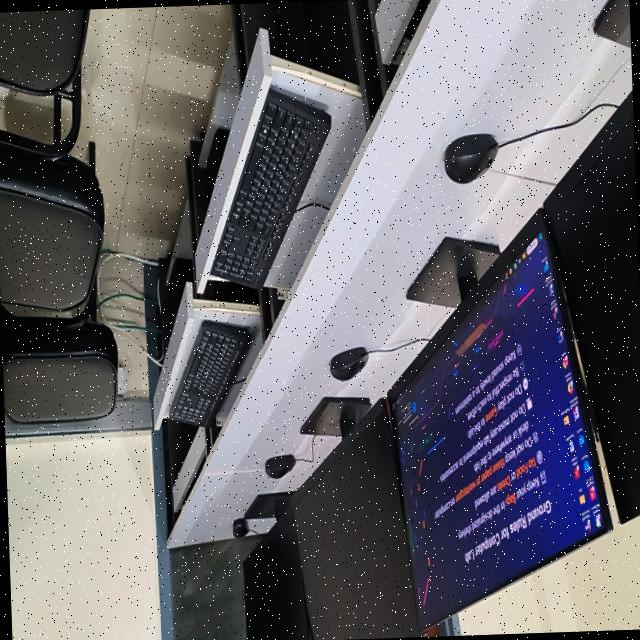Chair: (543, 89, 640, 520), (0, 142, 103, 310), (0, 320, 116, 421), (0, 8, 88, 94)
Cpu: (274, 0, 356, 81), (166, 257, 192, 327), (206, 127, 228, 187)
Keyboard: (199, 86, 330, 287), (169, 319, 249, 424)
Monitor: (386, 208, 611, 629), (543, 89, 640, 520), (291, 400, 419, 640), (242, 507, 308, 640)
Mouse: (443, 133, 497, 182), (329, 346, 367, 379), (264, 454, 294, 477), (232, 517, 248, 536)
